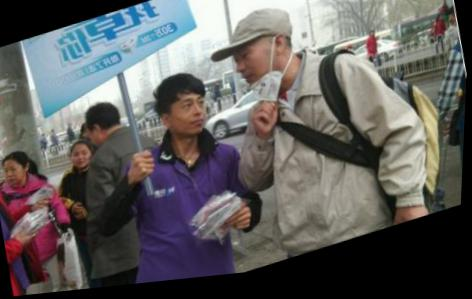NONE: (172, 92, 213, 144), (4, 160, 28, 186), (71, 145, 95, 171)
OK: (444, 25, 462, 53)
WRONG: (230, 36, 298, 111)
